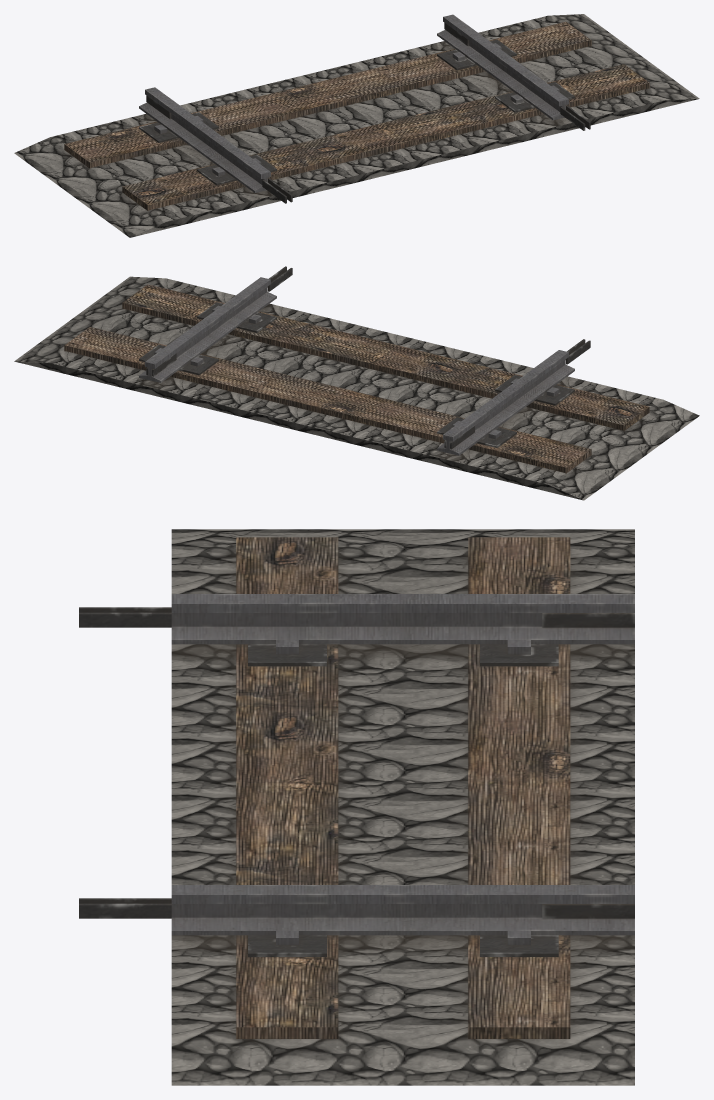
File: feRailStraight_HD.fbx
The picture shows the model from 3 angles, top to bottom: view 1: azimuth 30°, elevation 25°; view 2: azimuth 150°, elevation 25°; view 3: azimuth 270°, elevation 25°; orthographic projection. The views are drawn at different scales.
Visible parts, largest first — view 1: feRailStraight_Track; view 2: feRailStraight_Track; view 3: feRailStraight_Track.
Part boxes in pixels (<box>): feRailStraight_Track: <box>14,14,699,237</box>; feRailStraight_Track: <box>14,266,699,500</box>; feRailStraight_Track: <box>79,529,634,1085</box>.
Size of the model in its own units: 2.84 by 0.15 by 1.2.
Materials: 1 (1 with a texture image).
